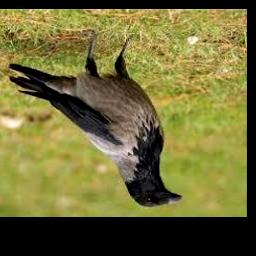Crow: (7, 34, 181, 208)
